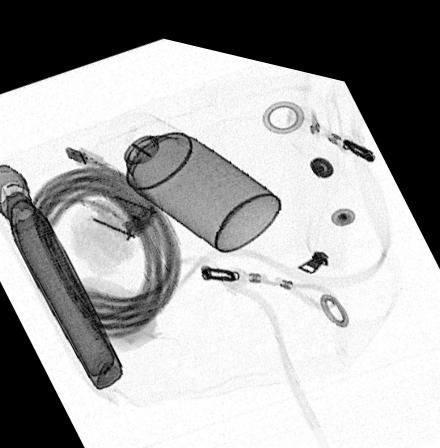Sprayer: (89, 101, 282, 242)
